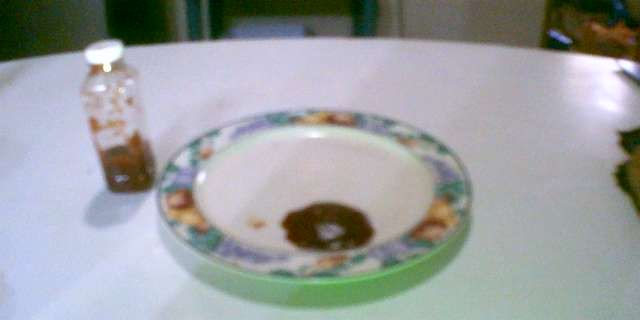ketchup_bottle: (73, 33, 161, 199)
ketchup_portion: (276, 197, 380, 256)
